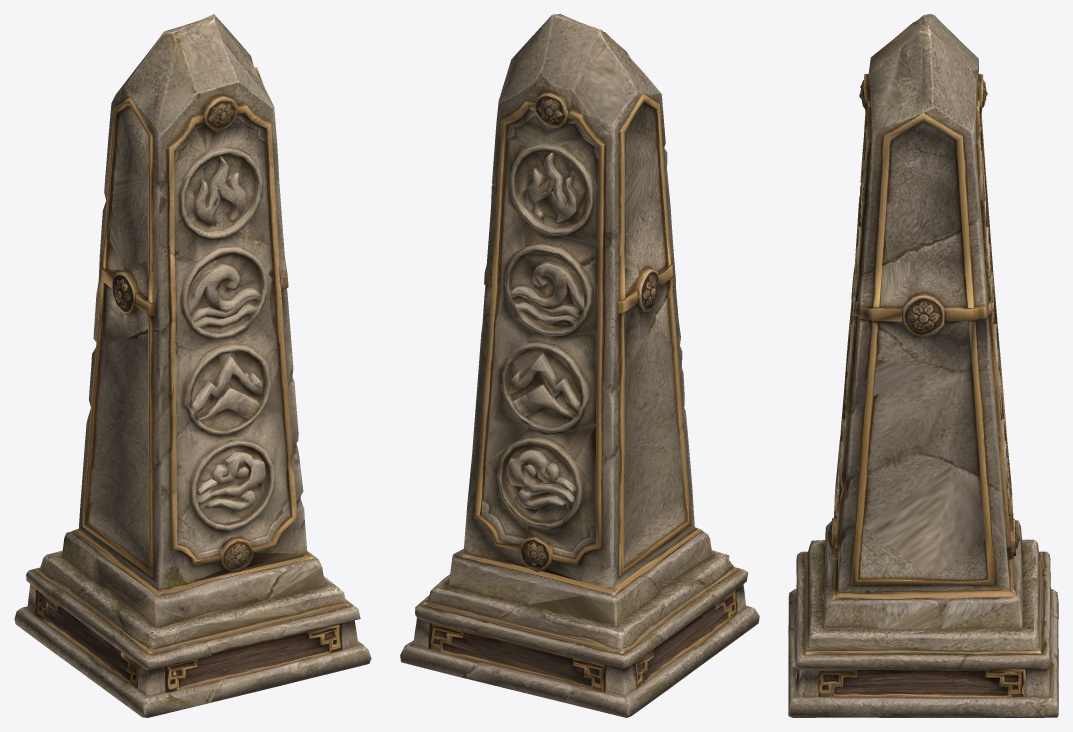
File: obelisk.glb
The picture shows the model from 3 angles, left to right: view 1: azimuth 30°, elevation 25°; view 2: azimuth 150°, elevation 25°; view 3: azimuth 270°, elevation 25°; orthographic projection. The views are drawn at different scales.
Visible parts, largest first — view 1: obelisk; view 2: obelisk; view 3: obelisk.
Boxes of the visible parts, bbox=[...] form: obelisk: bbox=[14, 14, 371, 717]; obelisk: bbox=[400, 14, 759, 717]; obelisk: bbox=[788, 14, 1058, 717].
Size of the model in its own units: 0.3767 by 0.9802 by 0.3747.
Materials: 1 (1 with a texture image).
